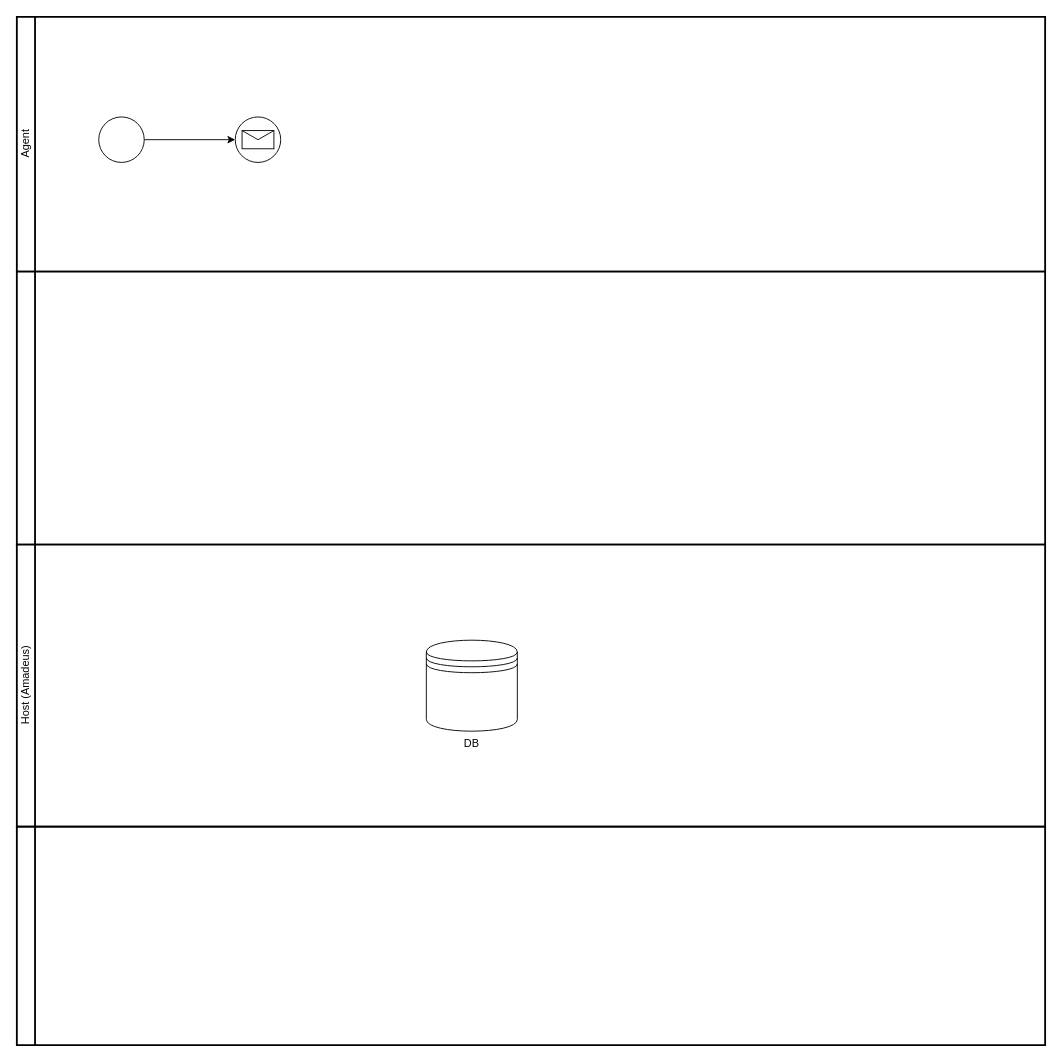
The diagram is 1061 pixels wide and 1061 high, and some of its shapes have lost their labels. Each missing label, with the box of its shape:
NDC: (15, 270, 1046, 545)
request is formed: (98, 116, 144, 162)
